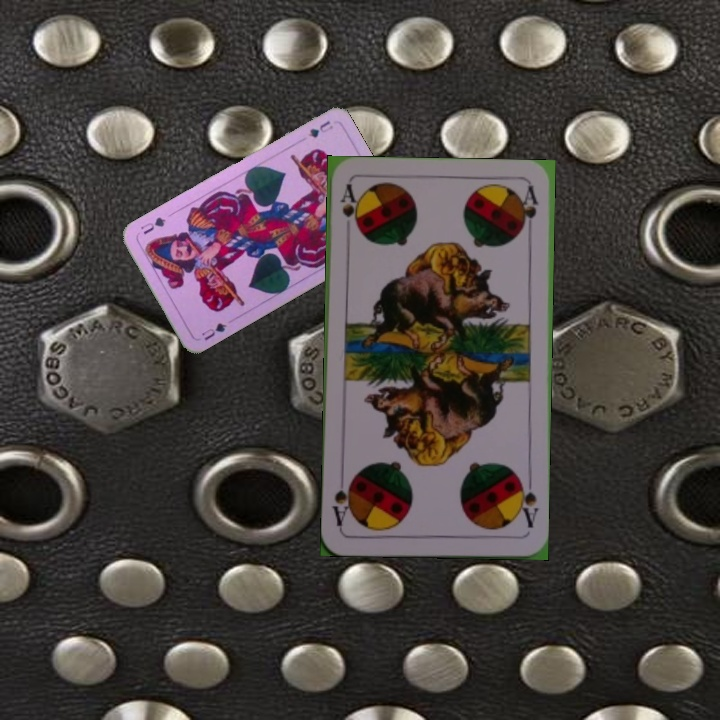GU: (197, 319, 229, 343), (304, 116, 335, 140)
SA: (514, 474, 541, 530), (336, 181, 360, 232)
